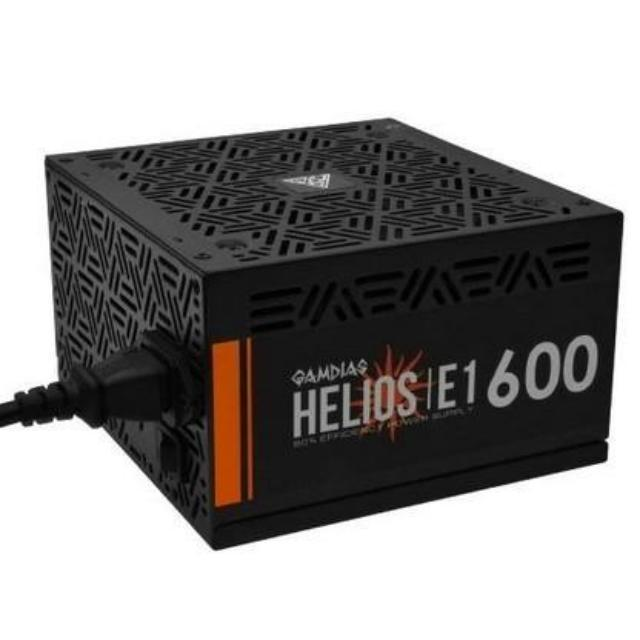PSU: (39, 94, 624, 554)
